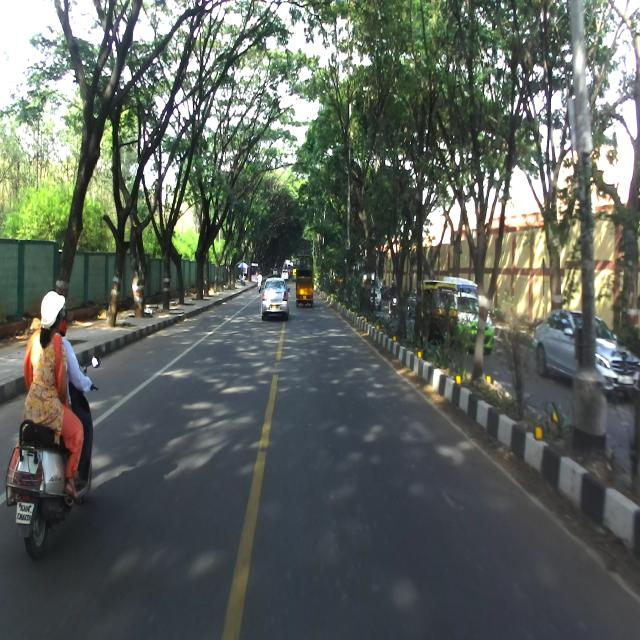motorcycle ahead at: (5, 418, 68, 564)
tree ahead at: (105, 186, 129, 322)
